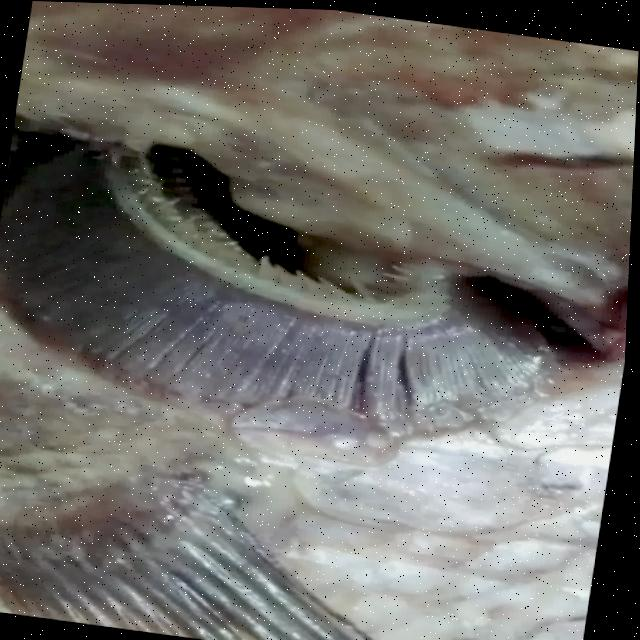Non-Fresh: (0, 123, 598, 475)
